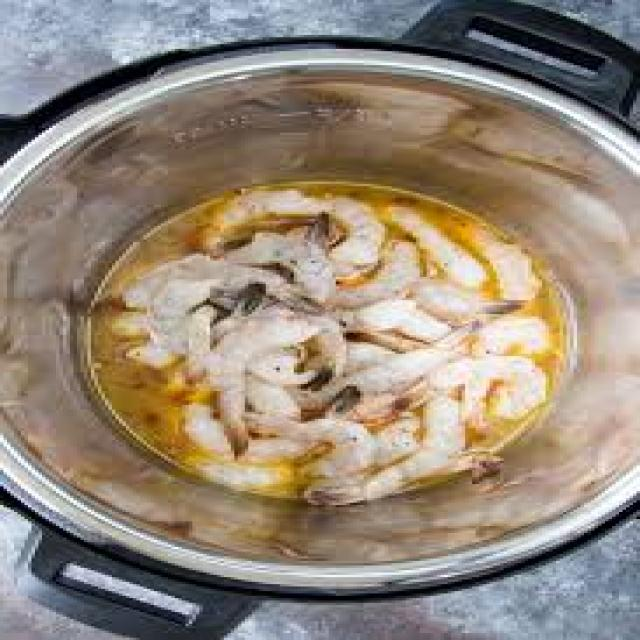Spinach bagged/loose: (464, 354, 547, 431)
